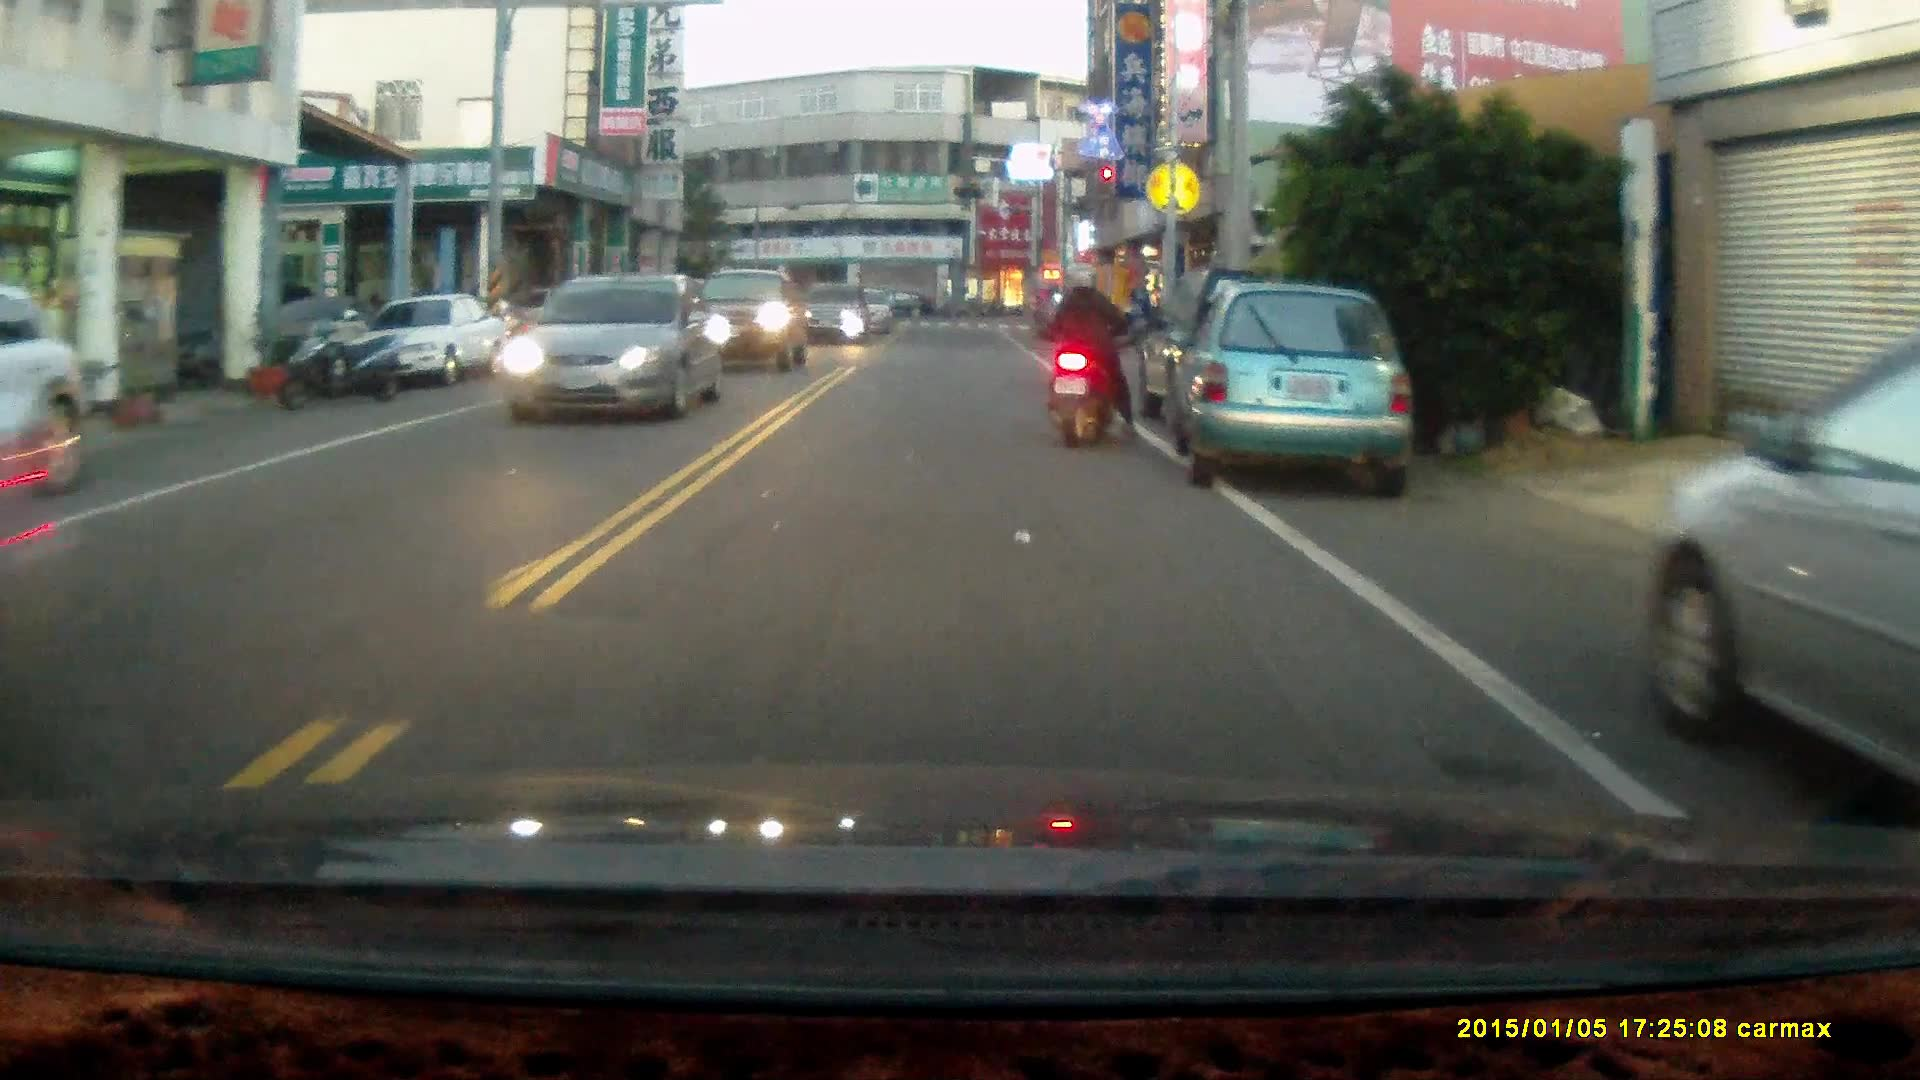rider: (1041, 264, 1138, 448)
vehicle: (1642, 335, 1920, 797), (1170, 281, 1419, 497), (504, 277, 725, 427), (350, 295, 519, 387), (684, 271, 818, 378)
